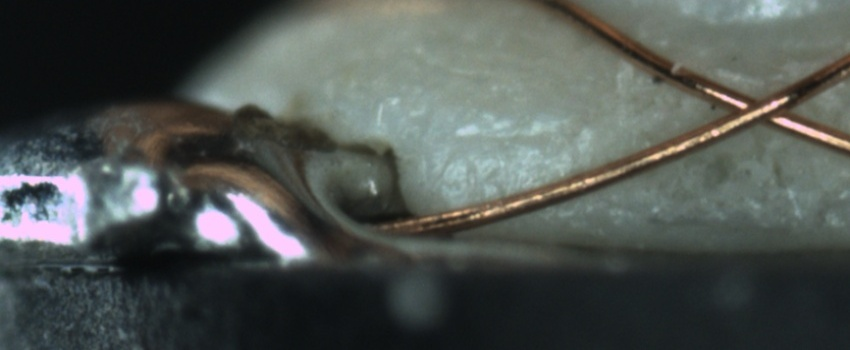CL: (688, 69, 827, 141)
DL: (444, 115, 577, 161)
